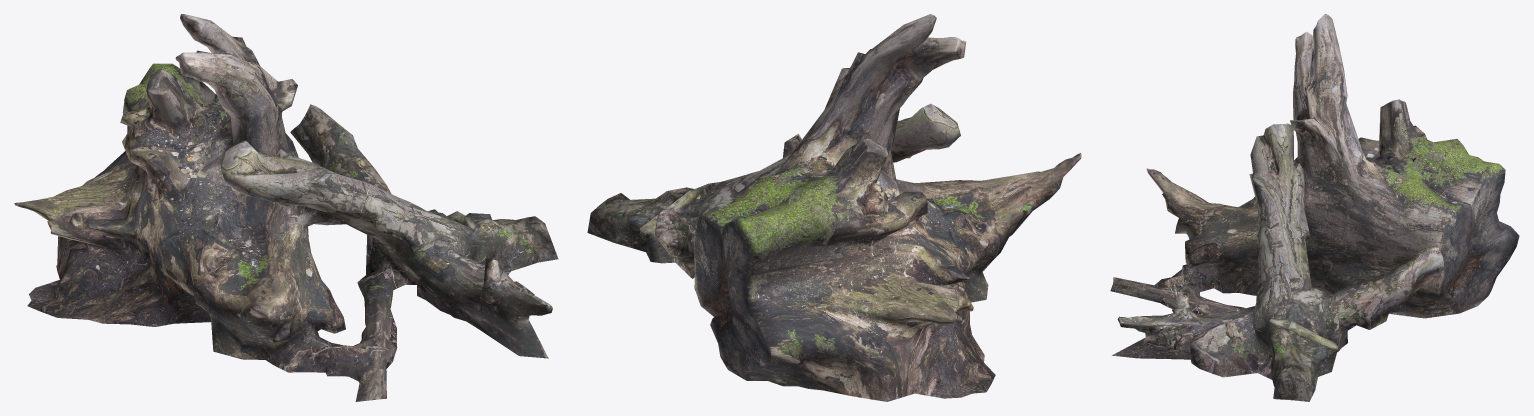
Rendered from SM_TreeStump_05_01.fbx.
3 views of the same model, side by side, from view 1: azimuth 30°, elevation 25°; view 2: azimuth 150°, elevation 25°; view 3: azimuth 270°, elevation 25° (orthographic). The views are drawn at different scales.
Visible parts, largest first — view 1: sm_TreeStump_05_01_LOD0; view 2: sm_TreeStump_05_01_LOD0; view 3: sm_TreeStump_05_01_LOD0.
Boxes of the visible parts, left/top/right/bottom form: sm_TreeStump_05_01_LOD0: left=14, top=14, right=558, bottom=401; sm_TreeStump_05_01_LOD0: left=587, top=14, right=1081, bottom=401; sm_TreeStump_05_01_LOD0: left=1110, top=14, right=1519, bottom=401.
Bounding box in the file's own units: 100 × 104 × 67.9.
